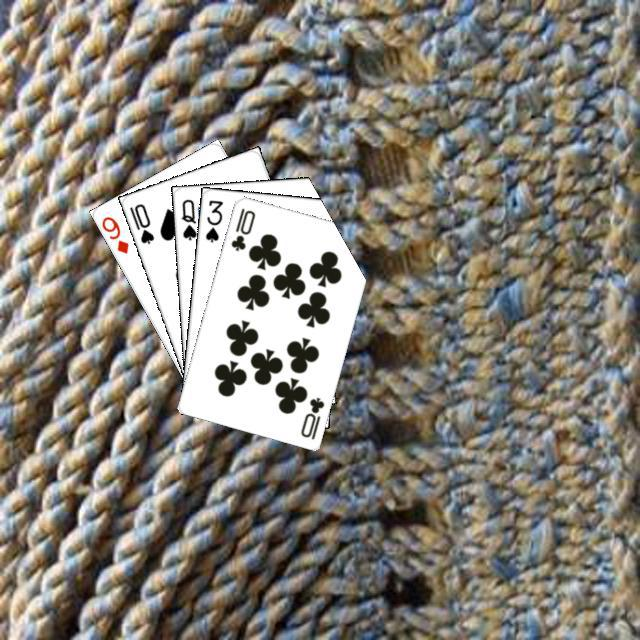10c: (226, 203, 257, 253), (296, 392, 326, 441)
10s: (124, 199, 156, 246)
3s: (200, 195, 224, 244)
9d: (97, 211, 130, 256)
Qs: (176, 194, 198, 242)
